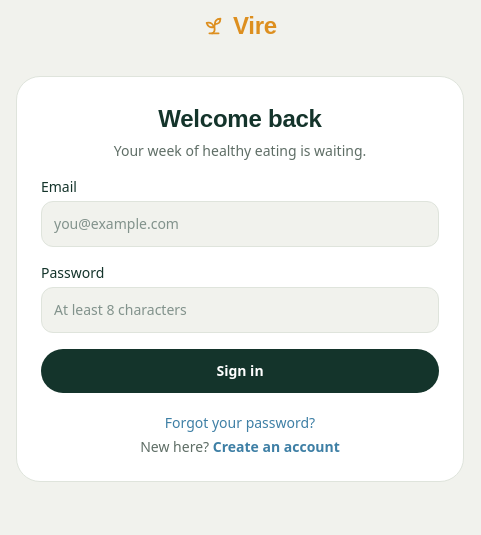
Test case: sign in › requires a password of at least 8 characters
The width and height of the screenshot is (481, 535).
In the field labelled "Email": (240, 224) top-left (41, 201), bottom-right (439, 247), type "owner@example.com"
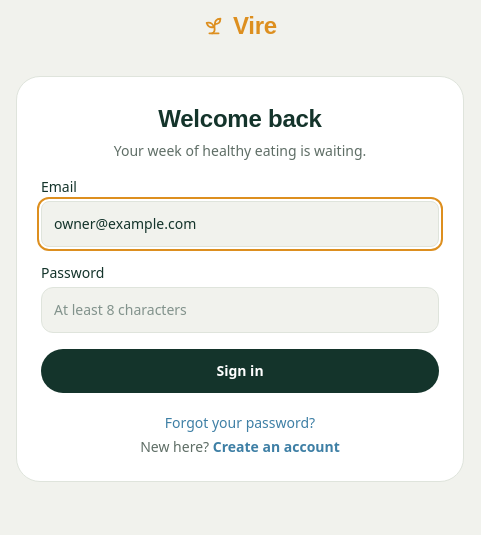
In the password field labelled "Password": (240, 310) top-left (41, 287), bottom-right (439, 333), type "short"
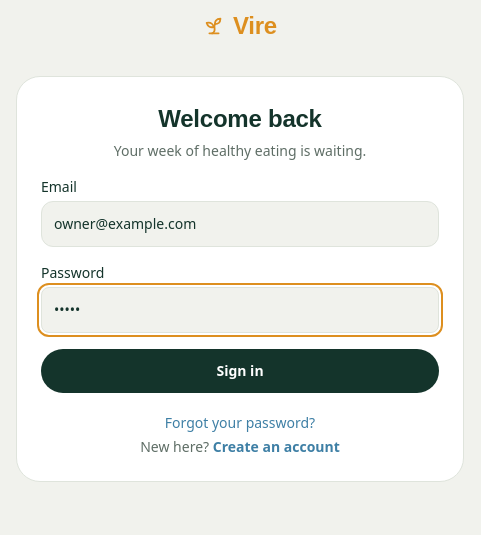
Click the button "Sign in": click(240, 371) top-left (41, 349), bottom-right (439, 393)
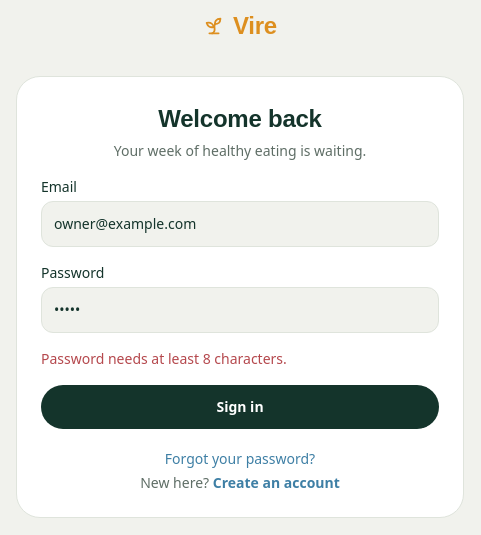
Expected: the message reads "Password needs at least 8 characters.", top-left (41, 349), bottom-right (287, 368)
